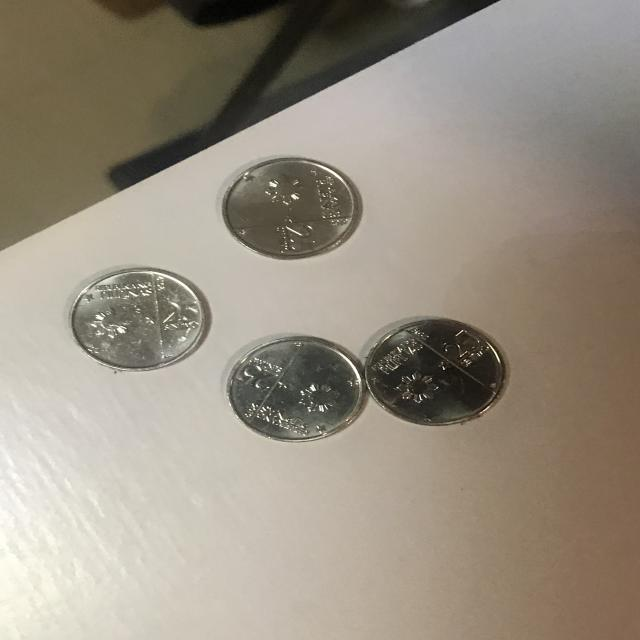25Cent_New_Front: (230, 344, 336, 434), (90, 279, 215, 353), (235, 172, 344, 256), (378, 330, 488, 410)
